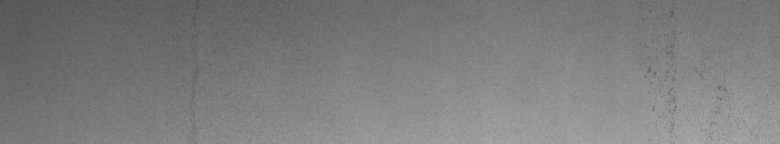ib: (644, 10, 727, 133)
